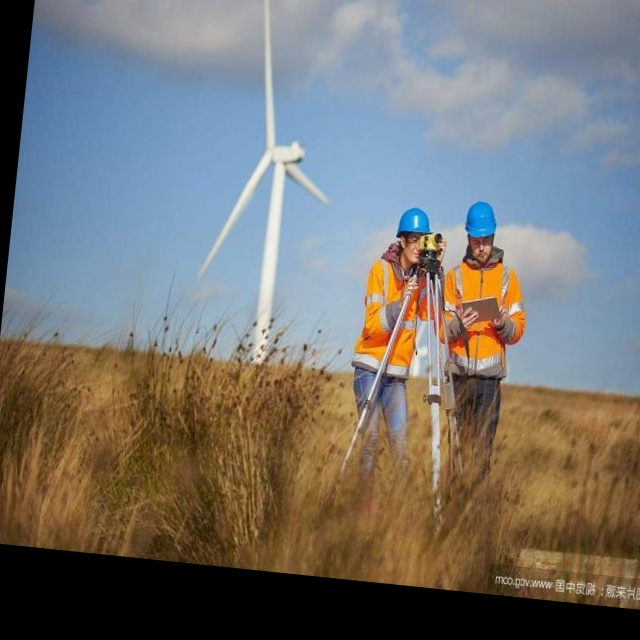Con_Casco: (462, 199, 500, 261), (393, 205, 431, 264)
Con_Chaleco: (435, 252, 518, 385)
